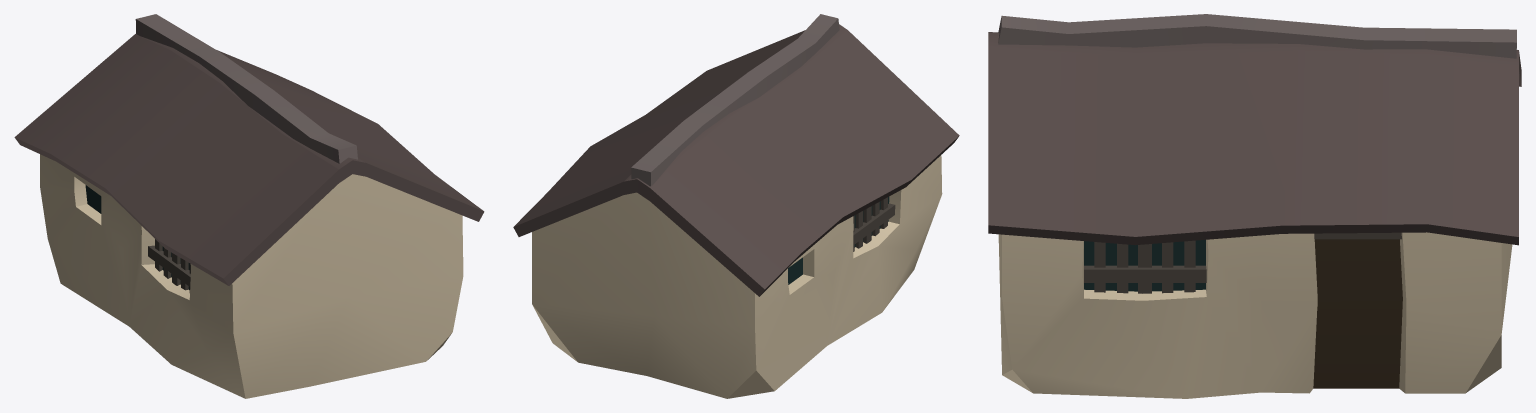
The model's file is Building_mode_L1_Northhouse002.fbx.
3 views of the same model, side by side, from view 1: azimuth 30°, elevation 25°; view 2: azimuth 150°, elevation 25°; view 3: azimuth 270°, elevation 25° (orthographic). The views are drawn at different scales.
Parts seen in each view (by area): view 1: Building_mode_L1_Northhouse002; view 2: Building_mode_L1_Northhouse002; view 3: Building_mode_L1_Northhouse002.
Part boxes in pixels (left/top/right/bottom): Building_mode_L1_Northhouse002: left=14, top=14, right=484, bottom=398; Building_mode_L1_Northhouse002: left=513, top=14, right=959, bottom=398; Building_mode_L1_Northhouse002: left=988, top=14, right=1521, bottom=398.
Bounding box in the file's own units: 2.9 × 2.36 × 3.74.
